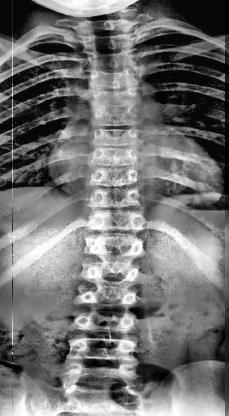Vertebrae: (62, 365, 138, 401), (66, 333, 134, 365), (82, 280, 140, 312), (92, 233, 150, 261), (75, 307, 136, 333), (88, 210, 150, 232), (89, 184, 145, 208), (92, 164, 140, 186), (88, 262, 140, 282), (92, 144, 142, 164), (87, 32, 136, 52), (94, 107, 146, 123), (93, 89, 145, 105), (92, 69, 137, 87), (89, 53, 136, 69), (93, 128, 136, 144)
